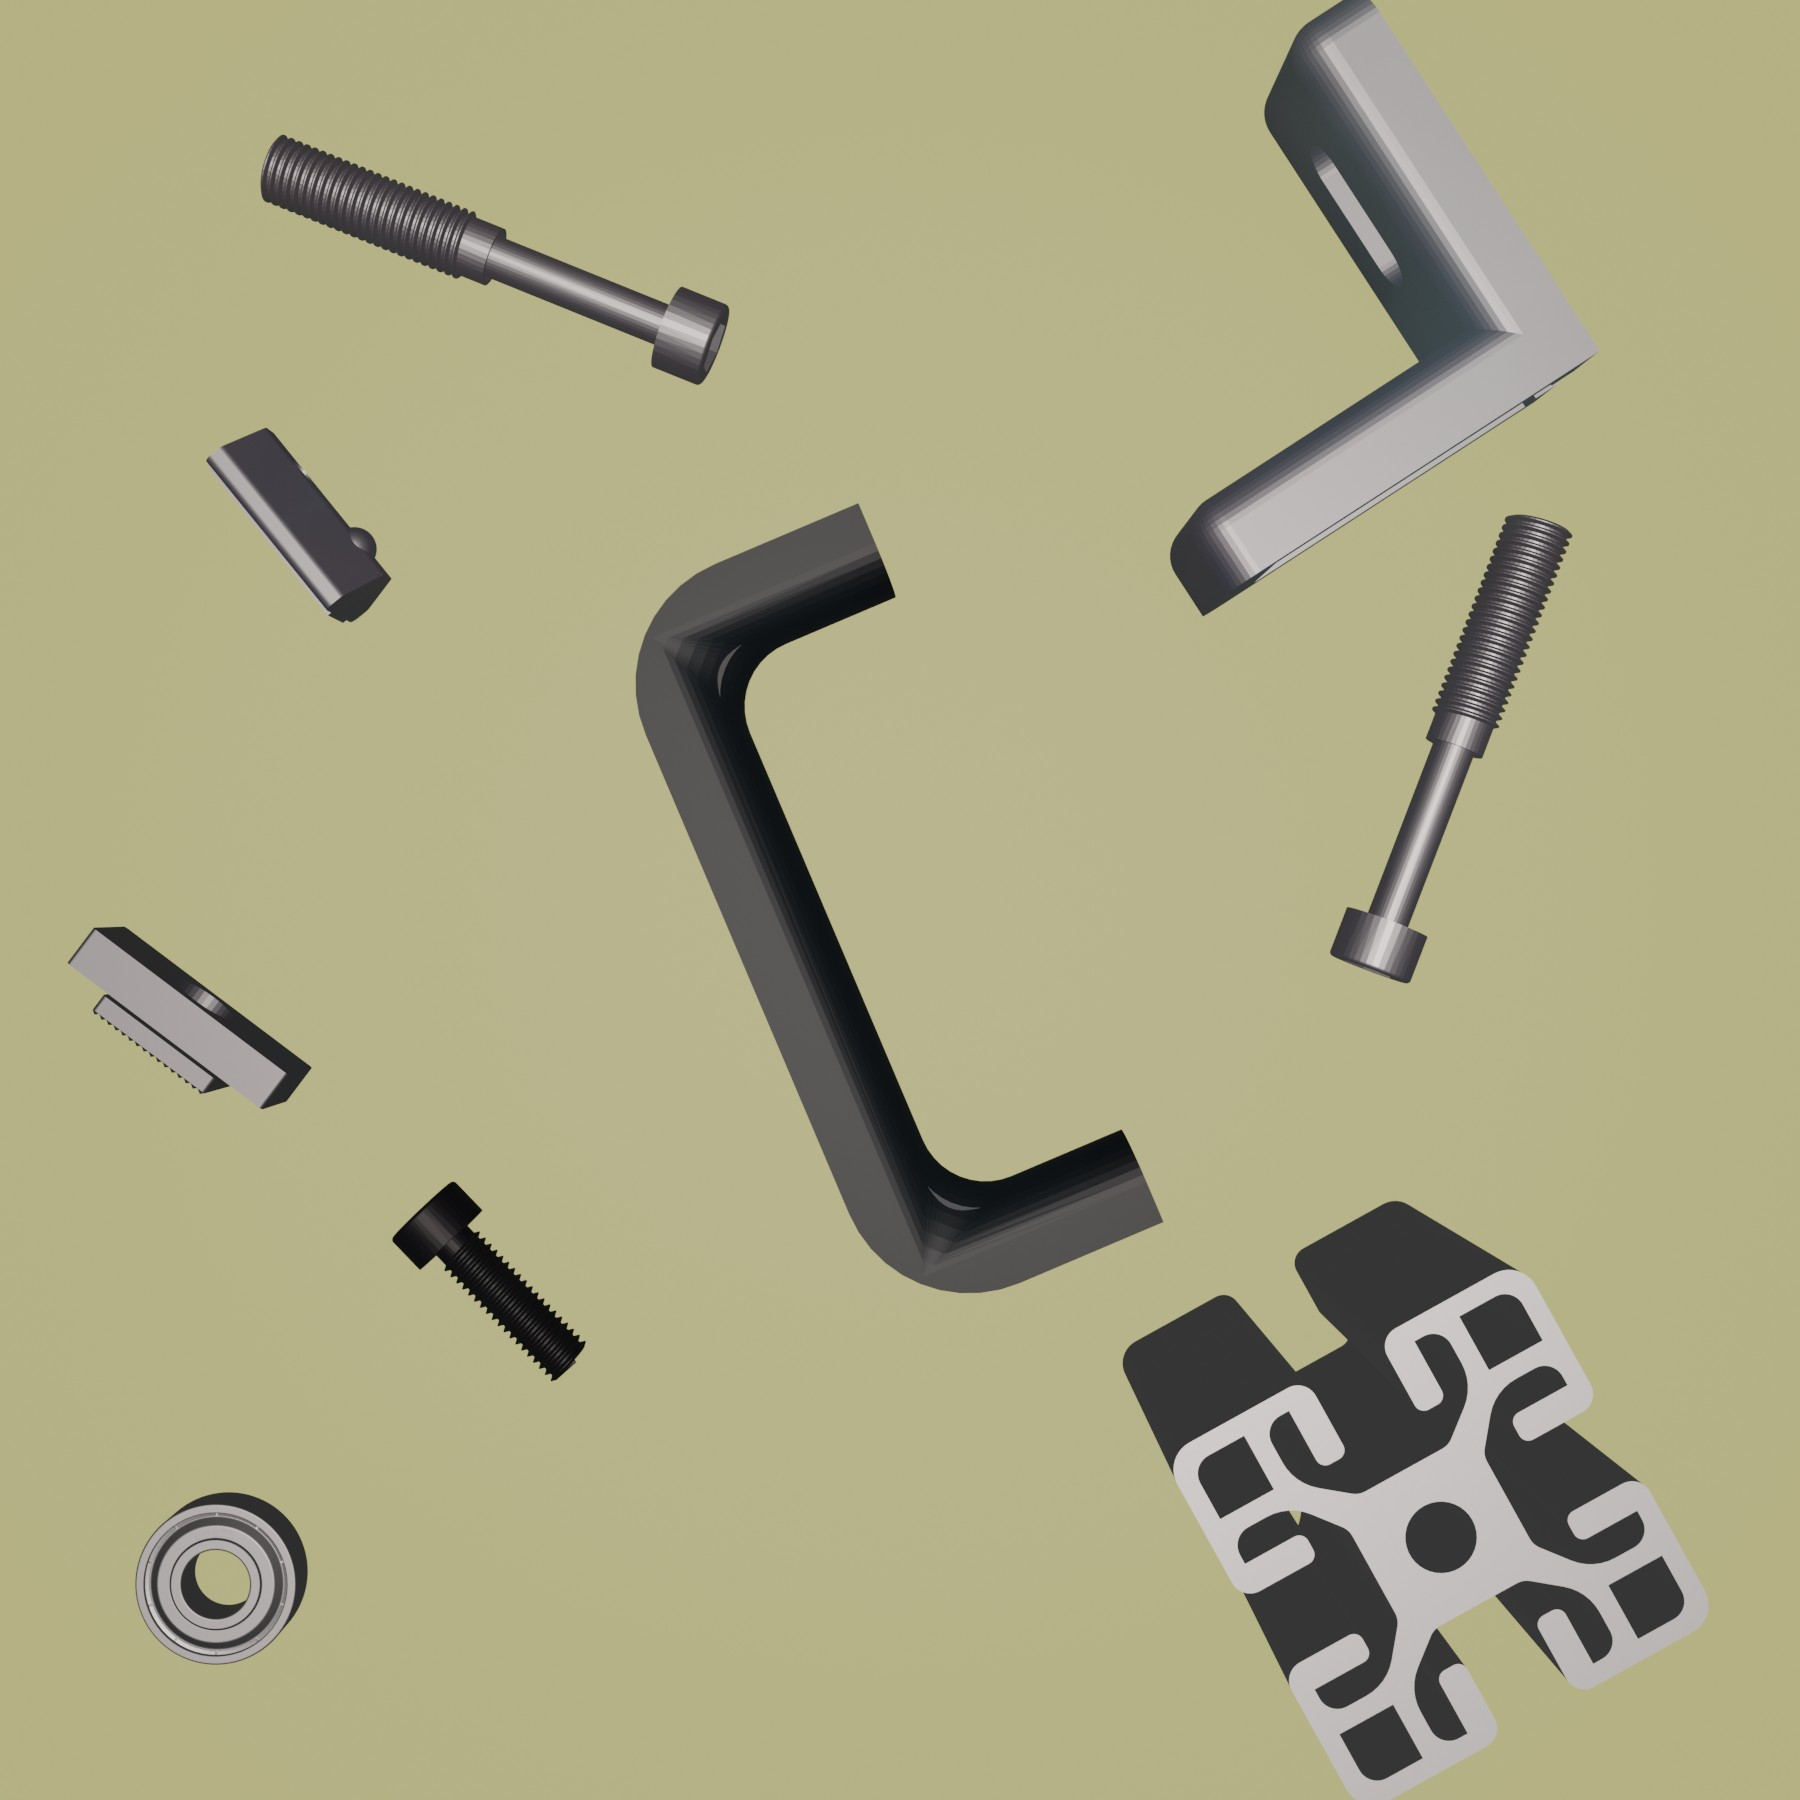Aluminium Extension: (1119, 1197, 1713, 1800)
Ball Bearing: (130, 1488, 308, 1670)
Multiwinkel: (1169, 2, 1602, 620)
Pull Handle: (633, 499, 1164, 1296)
Shoulder Socket Head Cap Screw: (255, 130, 730, 386), (1324, 509, 1574, 986)
Socket Head Cap Screw: (392, 1175, 590, 1386)
T Nut Square: (63, 921, 312, 1111)
T Spring Nut: (203, 425, 392, 626)
